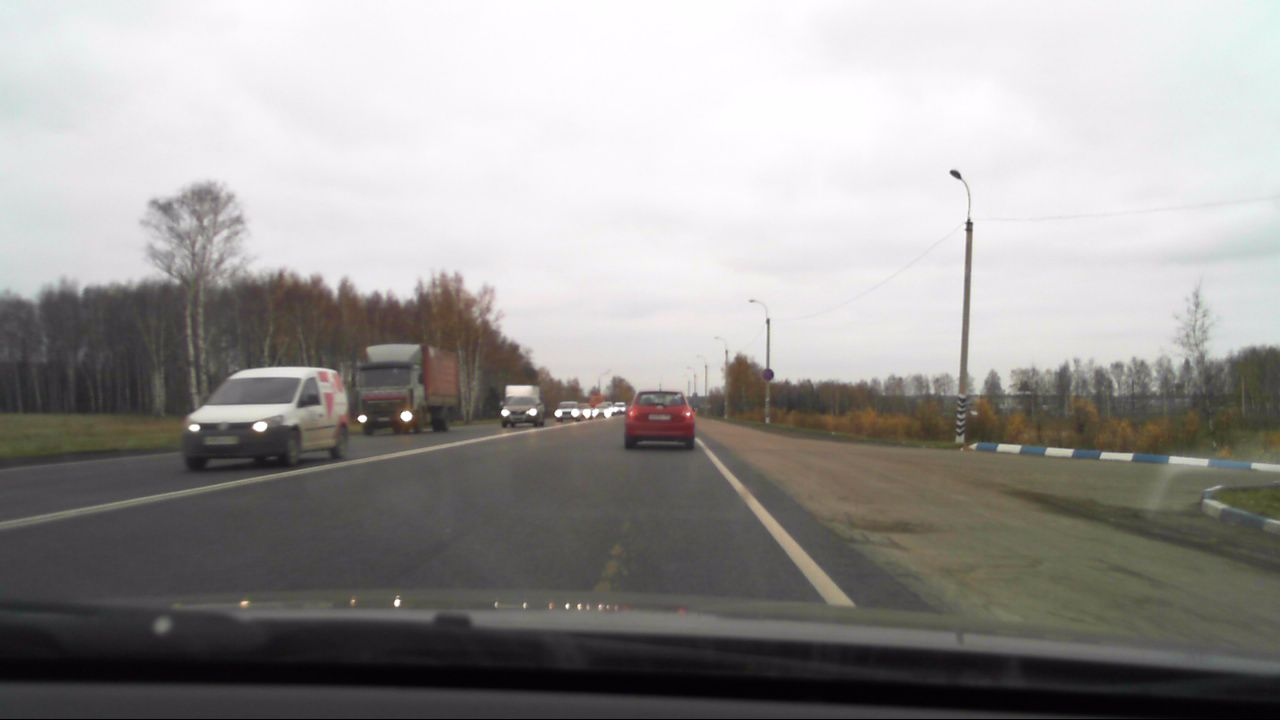No Parking: (758, 366, 777, 384)
